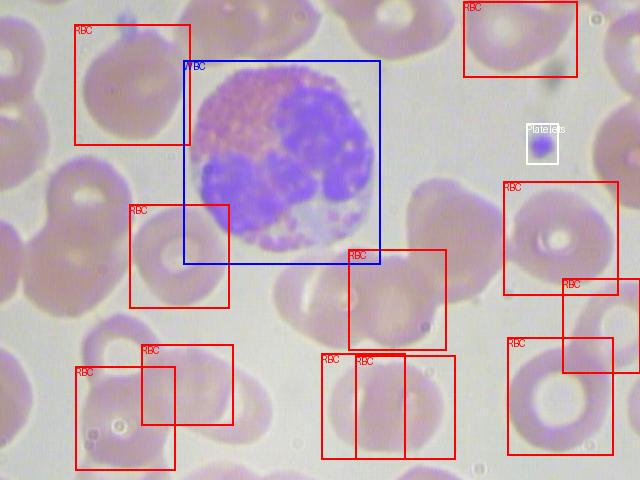Platelets: (526, 123, 558, 164)
RBC: (74, 24, 190, 145), (503, 181, 618, 295), (507, 337, 613, 455), (129, 204, 229, 308), (355, 355, 455, 459), (75, 366, 175, 470), (348, 249, 446, 350), (321, 353, 405, 459), (463, 1, 577, 77), (141, 344, 233, 425), (562, 278, 640, 373)
WBC: (183, 60, 380, 264)
